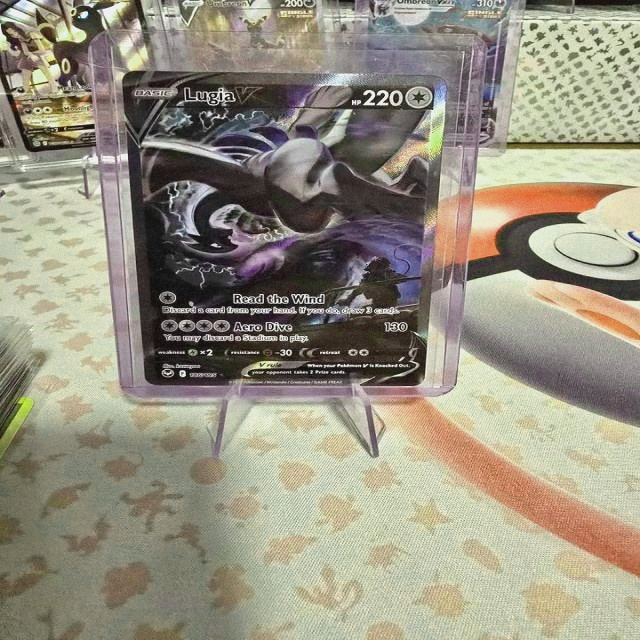card: (121, 70, 449, 387)
